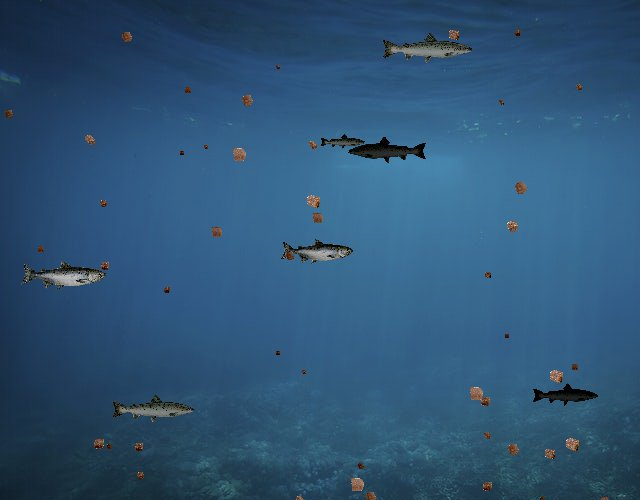Fish: (381, 31, 475, 65), (110, 393, 196, 424), (20, 260, 106, 291), (348, 135, 429, 164), (280, 239, 353, 265), (531, 383, 599, 407), (319, 133, 366, 150)
Pellet: (508, 175, 534, 201), (500, 214, 525, 239), (78, 129, 100, 151), (480, 268, 494, 282), (510, 26, 524, 40), (200, 142, 210, 152), (536, 493, 549, 500)
